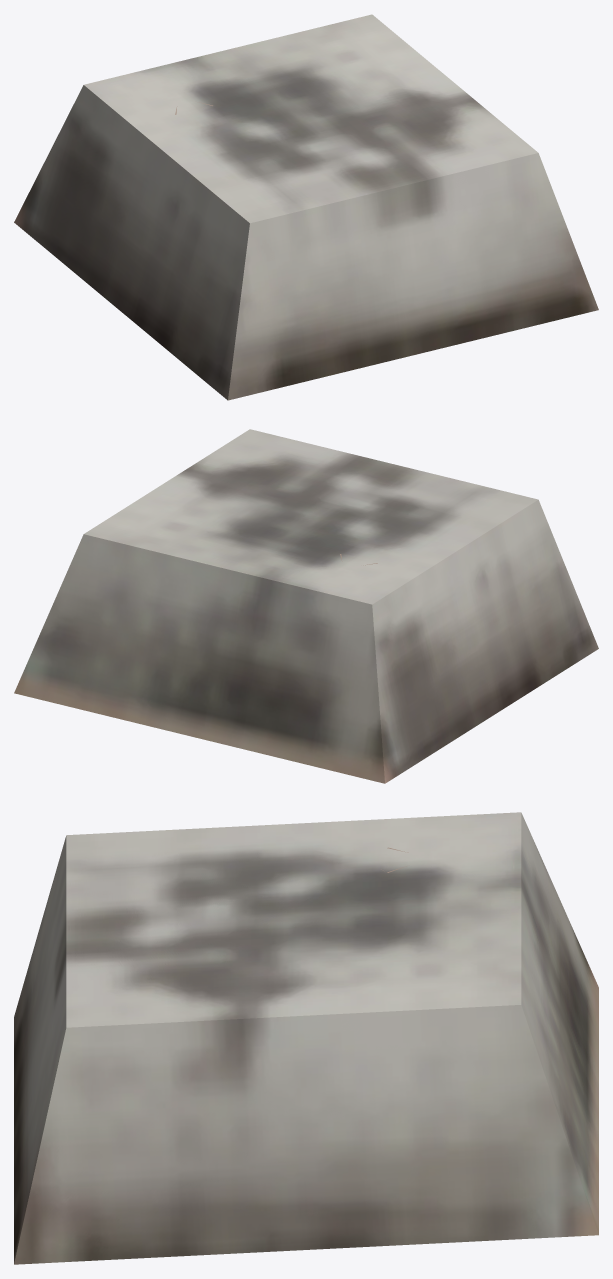
Rendered from link_60__key-66.glb.
3 renders of one model, top to bottom at view 1: azimuth 30°, elevation 25°; view 2: azimuth 150°, elevation 25°; view 3: azimuth 270°, elevation 25°, orthographic. The views are drawn at different scales.
Visible parts, largest first — view 1: geometry_0; view 2: geometry_0; view 3: geometry_0.
Part boxes in pixels (box(x1,y1,x2,y2)): geometry_0: box(14, 14, 598, 400); geometry_0: box(14, 429, 598, 783); geometry_0: box(14, 812, 598, 1264).
Size of the model in its own units: 0.0719 by 0.0315 by 0.0718.
Materials: 1 (1 with a texture image).
